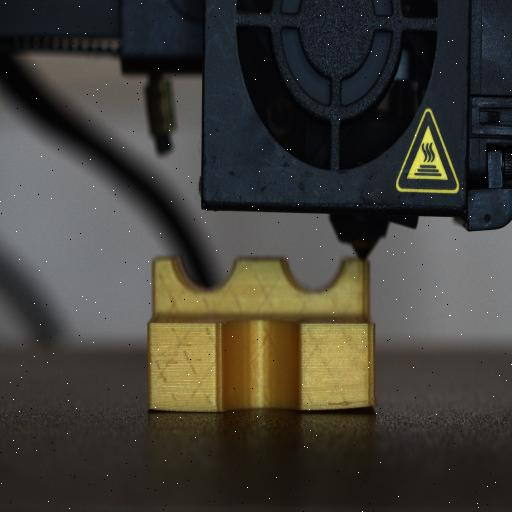warp: (312, 394, 382, 416), (144, 398, 186, 416)
